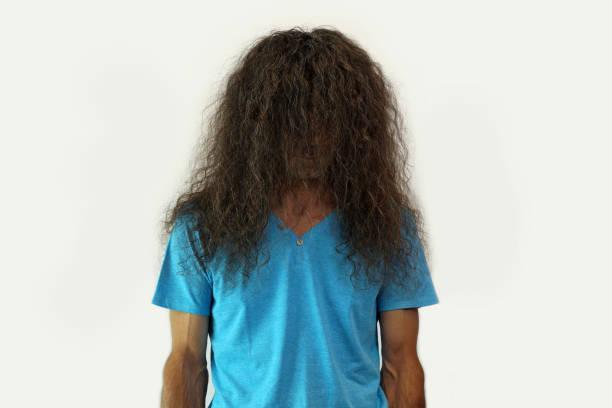dry hair: (182, 194, 251, 264), (366, 182, 411, 286), (294, 97, 349, 178), (245, 101, 269, 211)
